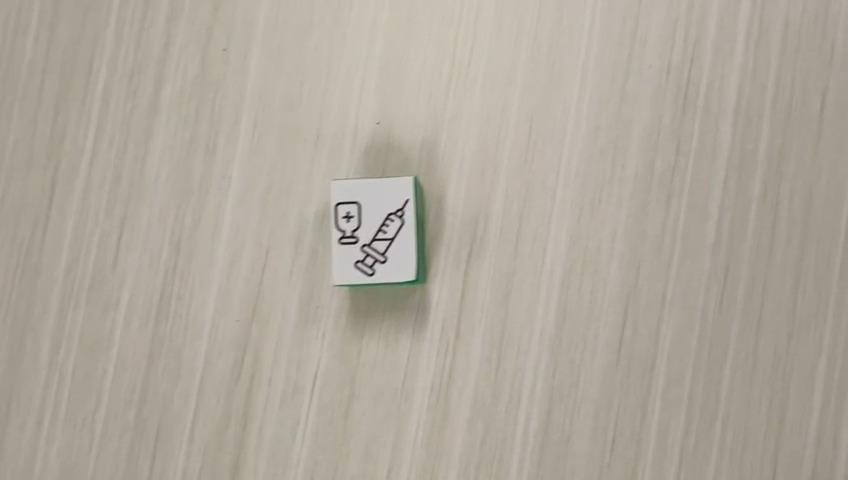antiseptic cream: (328, 174, 423, 287)
